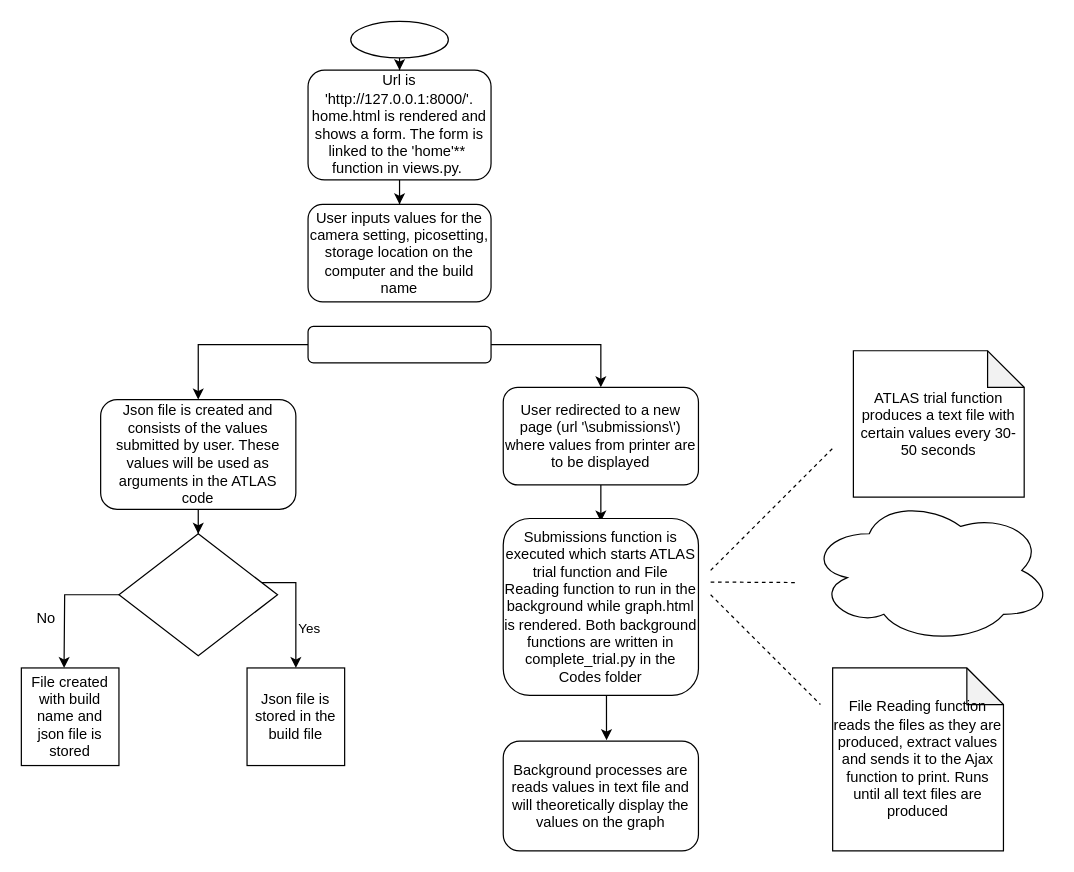
Some shapes in this 1074 by 872 pixel diagram are drawn without their labels. Here are the shapes that lost their labels. From the top down, the centre of each, then its label:
At pixel 399 39: "Start".
At pixel 399 344: "User clicks submit".
At pixel 929 570: "possibly run the background functions in a celery server?".
At pixel 198 594: "File directory exists?".
